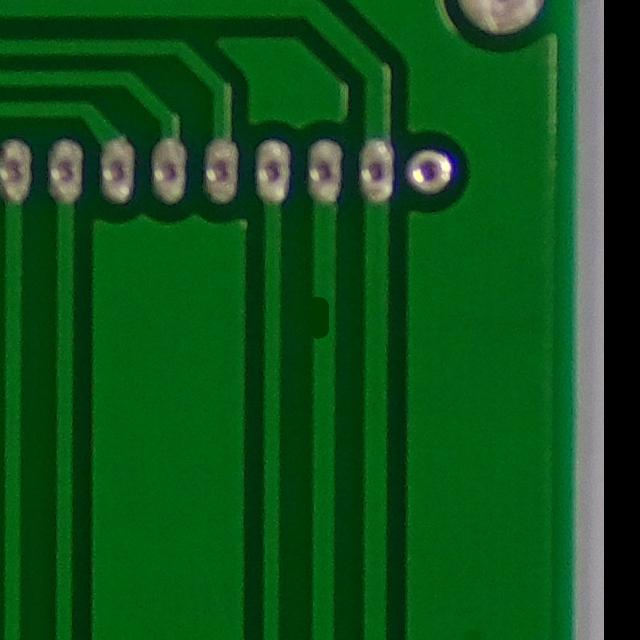mouse_bite: (292, 283, 348, 357)
